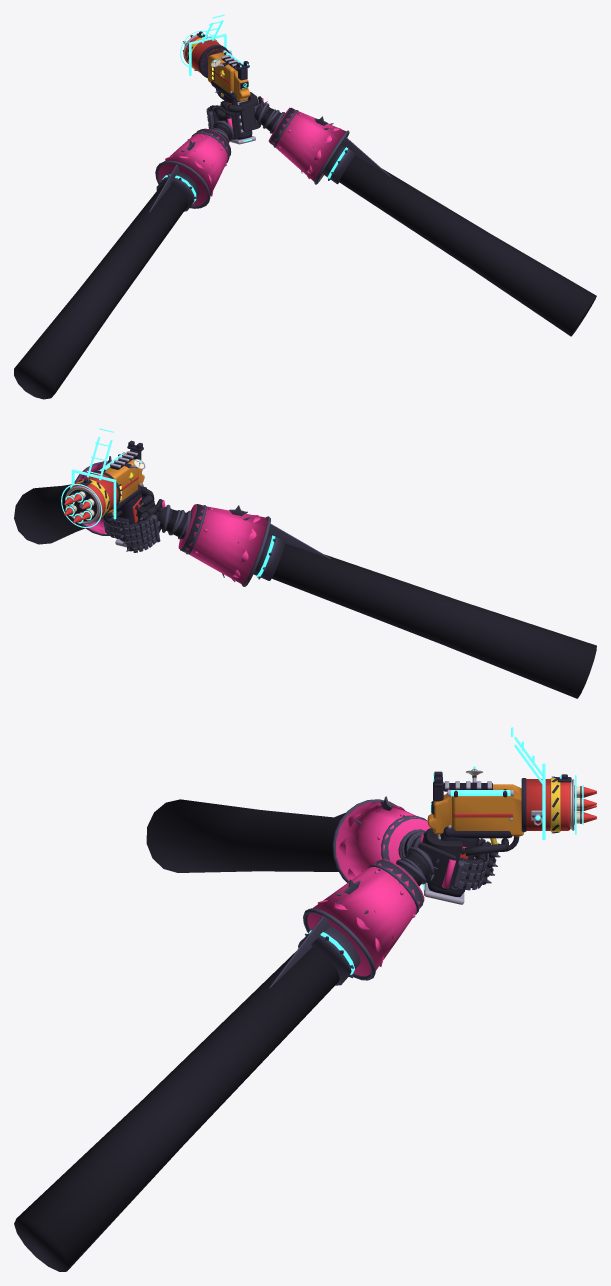
File: t_minus_six.glb
3 renders of one model, top to bottom at view 1: azimuth 30°, elevation 25°; view 2: azimuth 150°, elevation 25°; view 3: azimuth 270°, elevation 25°, orthographic. The views are drawn at different scales.
Parts seen in each view (by area): view 1: ArmR, ArmL, ArmRKitBell, Shell, ArmLKitBell, CellHolo; view 2: ArmL, ArmLKitBell, Shell, ArmR, ArmLKitGauntlet, CellHolo, ArmLKitFins, ArmLKitWraps, ArmRKitBell; view 3: ArmR, ArmL, Shell, ArmRKitBell, ArmLKitBell, ArmRKitGauntlet, ArmRKitMitten, CellHolo, ArmRKitFins.
Part boxes in pixels (box(x1,y1,x2,y2)): ArmR: box(218, 90, 596, 336); ArmL: box(14, 105, 238, 399); ArmRKitBell: box(268, 107, 349, 184); Shell: box(183, 34, 255, 144); ArmLKitBell: box(155, 128, 231, 208); CellHolo: box(180, 14, 226, 75); ArmL: box(121, 500, 596, 698); ArmLKitBell: box(178, 504, 270, 586); Shell: box(65, 449, 144, 547); ArmR: box(14, 484, 153, 544); ArmLKitGauntlet: box(124, 504, 213, 554); CellHolo: box(61, 428, 116, 527); ArmLKitFins: box(157, 517, 331, 558); ArmLKitWraps: box(153, 504, 191, 542); ArmRKitBell: box(74, 456, 143, 536); ArmR: box(14, 828, 508, 1271); ArmL: box(146, 799, 496, 884); Shell: box(423, 776, 574, 904); ArmRKitBell: box(303, 859, 424, 980); ArmLKitBell: box(332, 796, 430, 882); ArmRKitGauntlet: box(374, 843, 488, 917); ArmRKitMitten: box(418, 842, 456, 890); CellHolo: box(511, 727, 576, 839); ArmRKitFins: box(269, 856, 437, 988).
Size of the model in its own units: 2.27 by 1.04 by 1.42.
